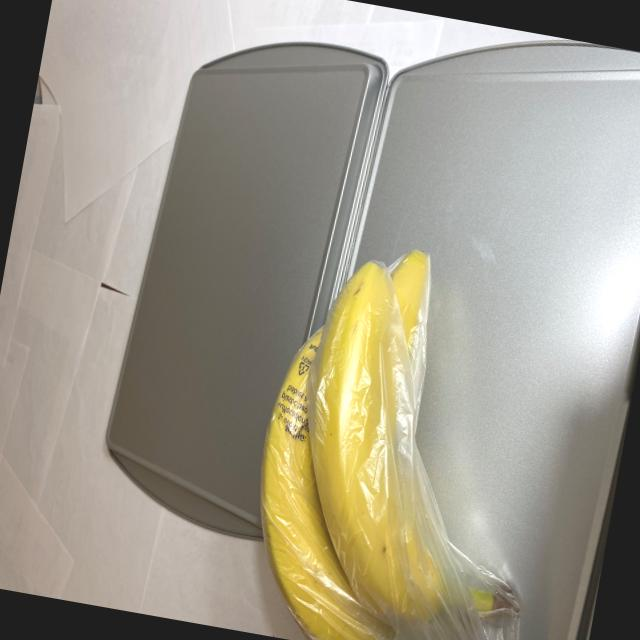banana: (224, 222, 592, 640)
